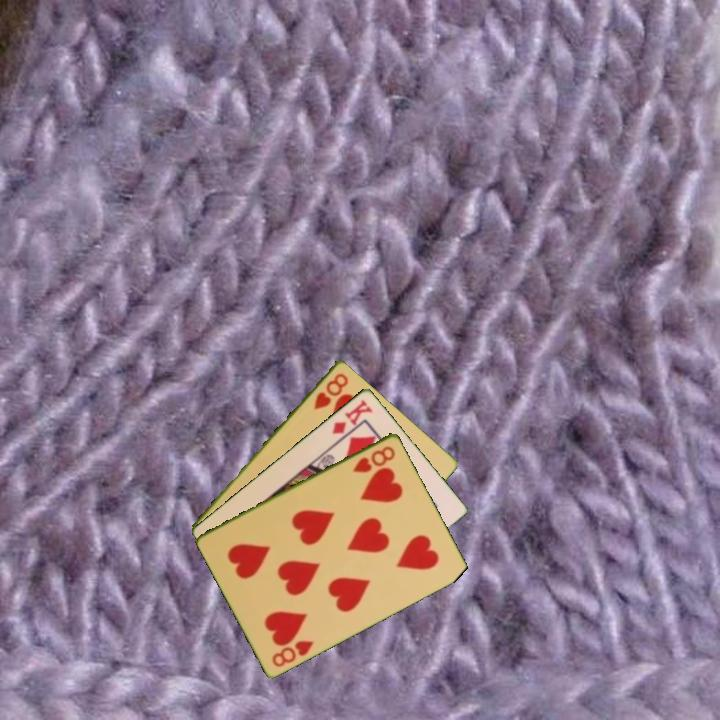8h: (310, 369, 351, 412), (268, 636, 316, 670), (349, 442, 398, 475)
Kd: (328, 395, 376, 437)
